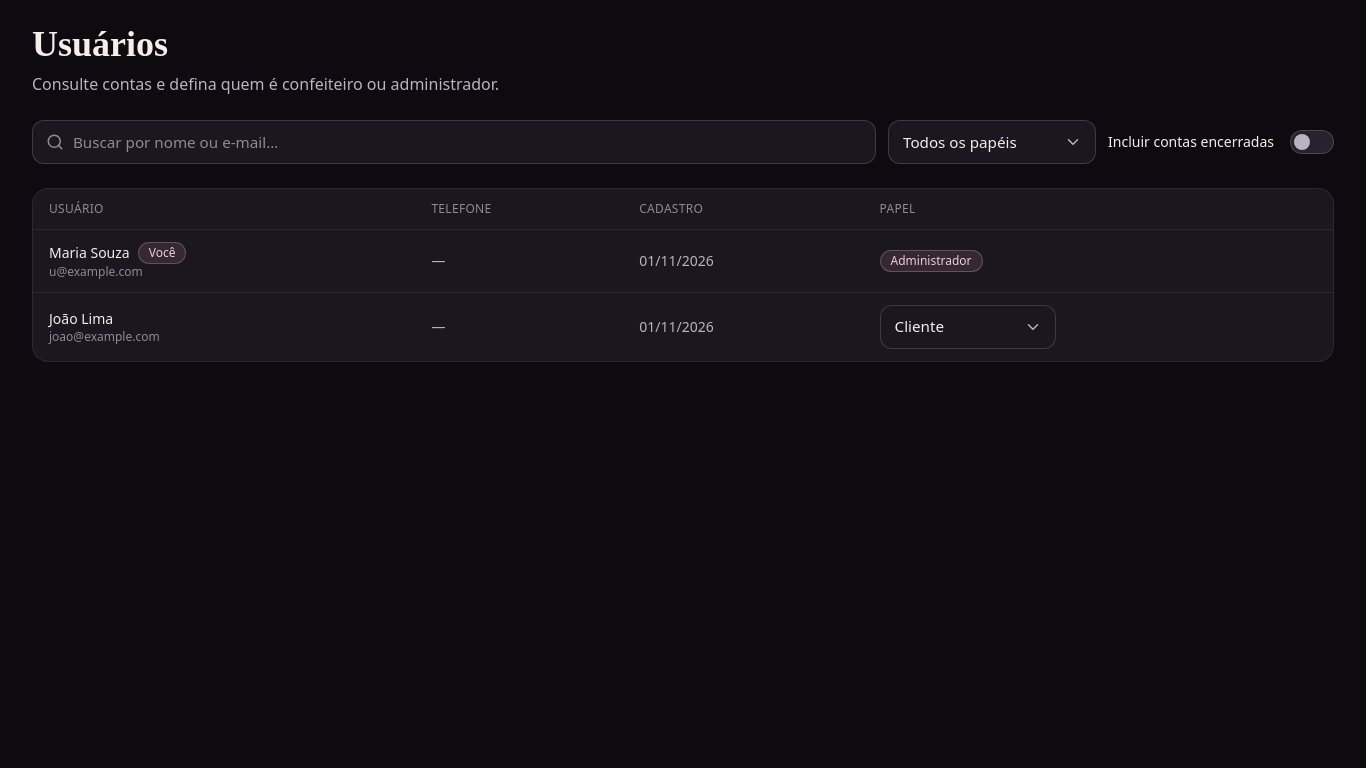
Test: AdminUsersPage › altera papel após confirmação e mostra recusas da API
Expected: the text "Você" is shown, [138,242,186,264]
Select "Confeiteiro" in the dropdown named "Papel de João Lima" in the row of "João Lima": (968,327) [880,305,1056,349]
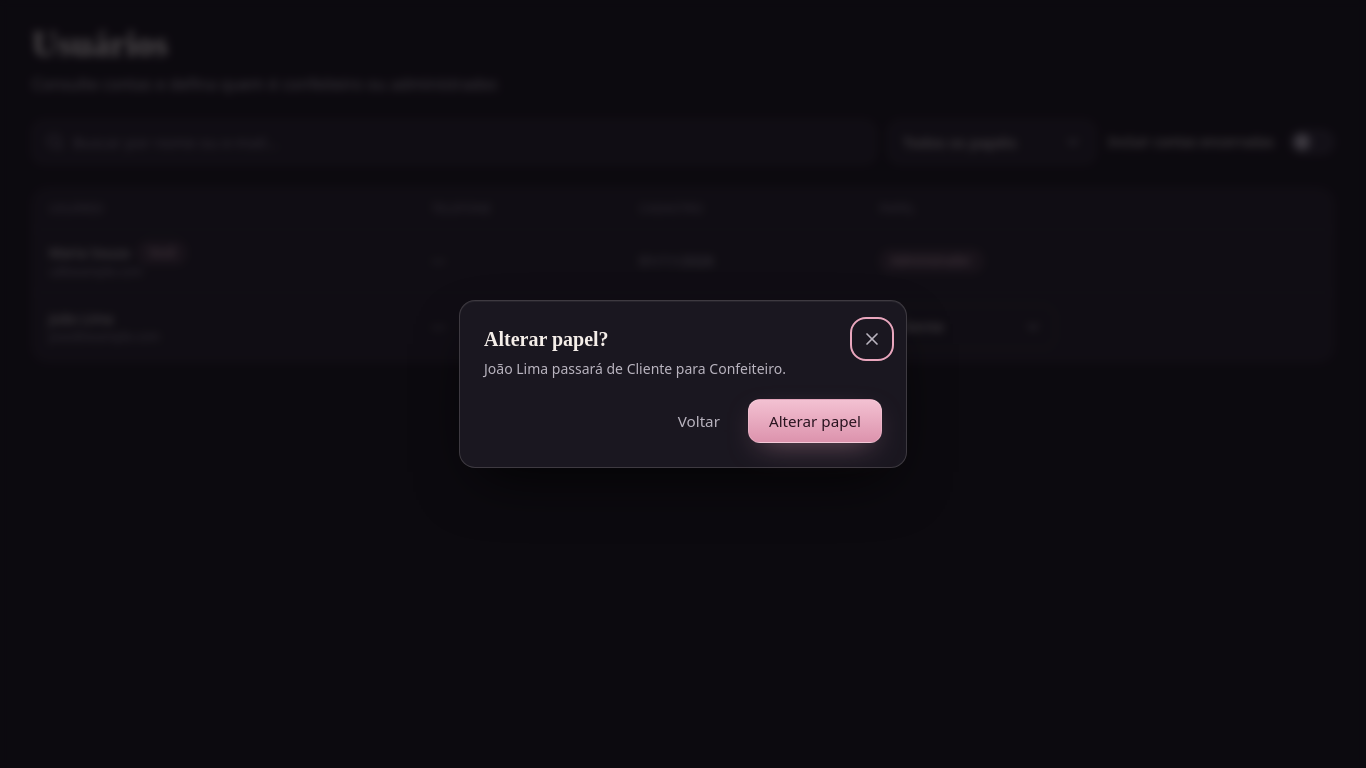
Result: the dialog "Alterar papel?" shows "João Lima passará de Cliente para Confeiteiro." at [484,359,786,378]
Click the button "Alterar papel": (815,421) [748,399,882,443]
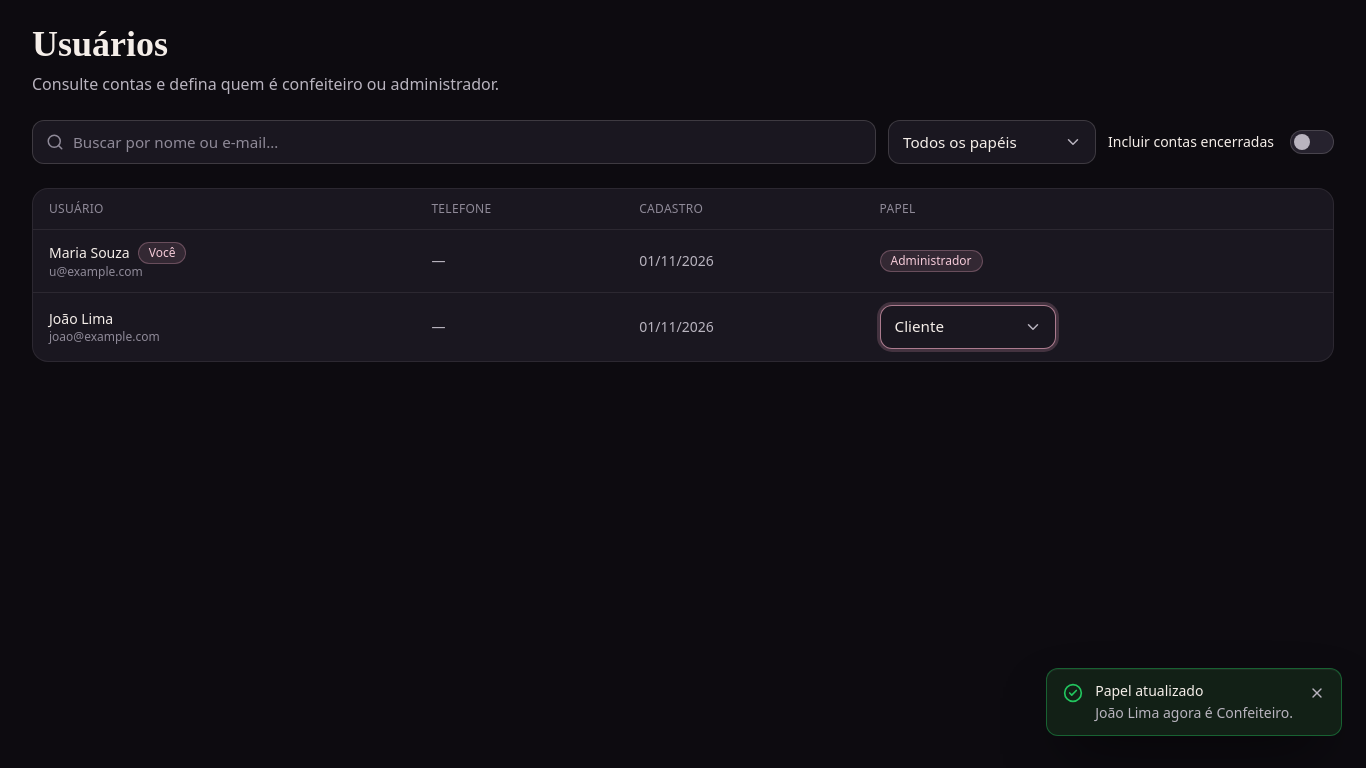
Result: the text "Papel atualizado" is shown at [1095,681,1203,700]
